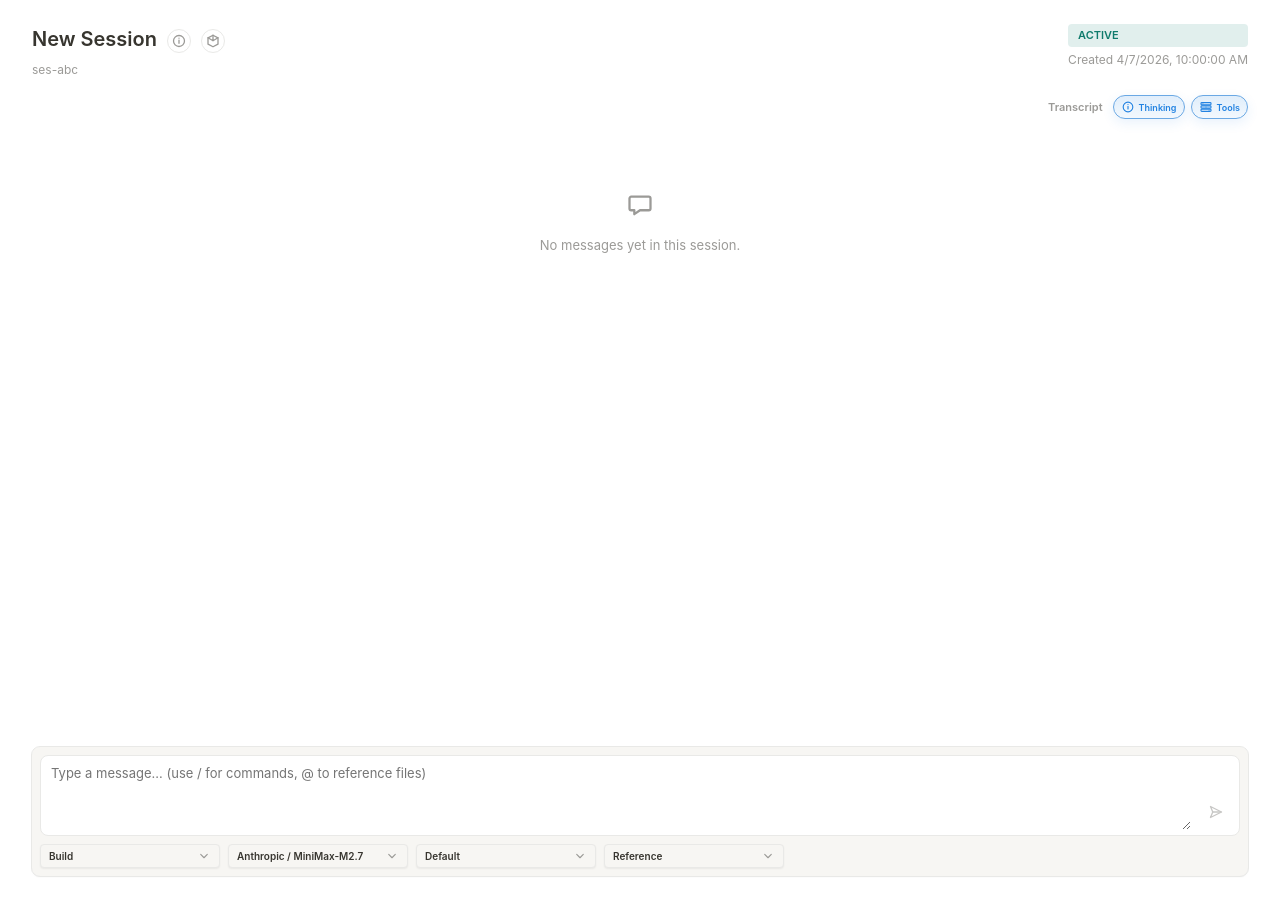
Test case: ChatPage › resets invalid model mode when switching to a model without support
Click the button with test id "composer-model-mode-trigger". click: x=506, y=856
box: [416,844,596,868]
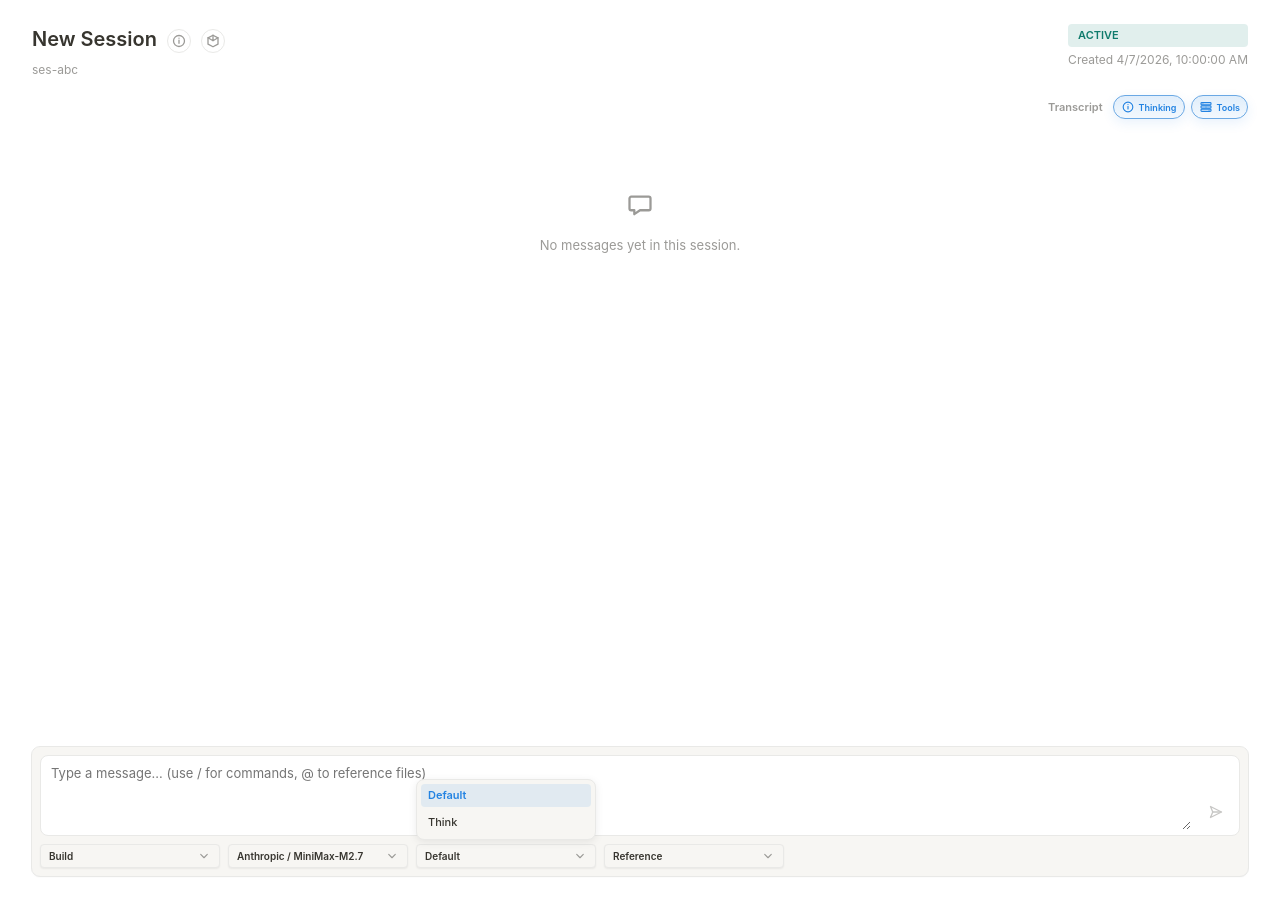
Click the button with test id "composer-model-mode-option-think". click: x=506, y=823
box: [421,811,591,835]
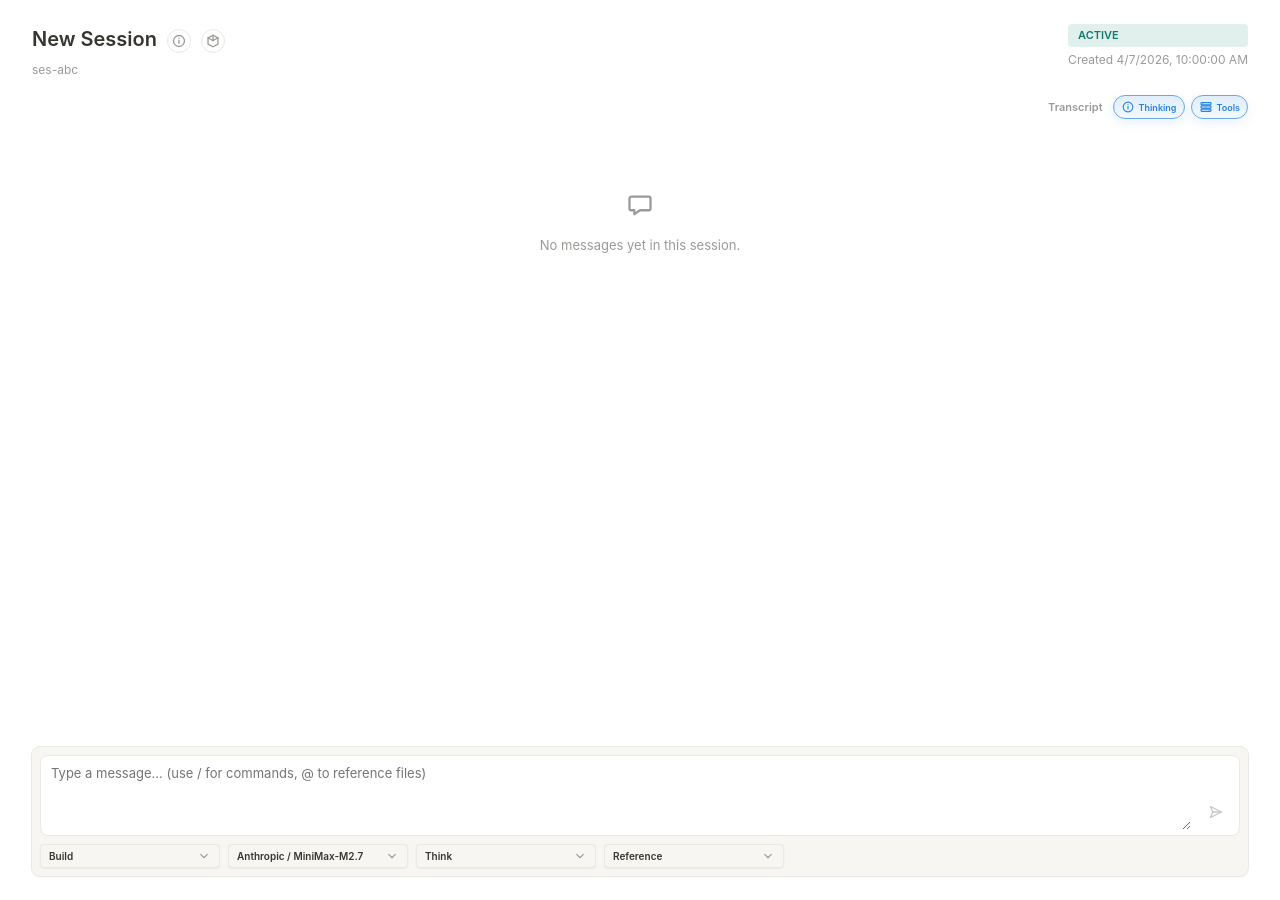
Click the button with test id "composer-provider-model-trigger". click: x=318, y=856
box: [228,844,408,868]
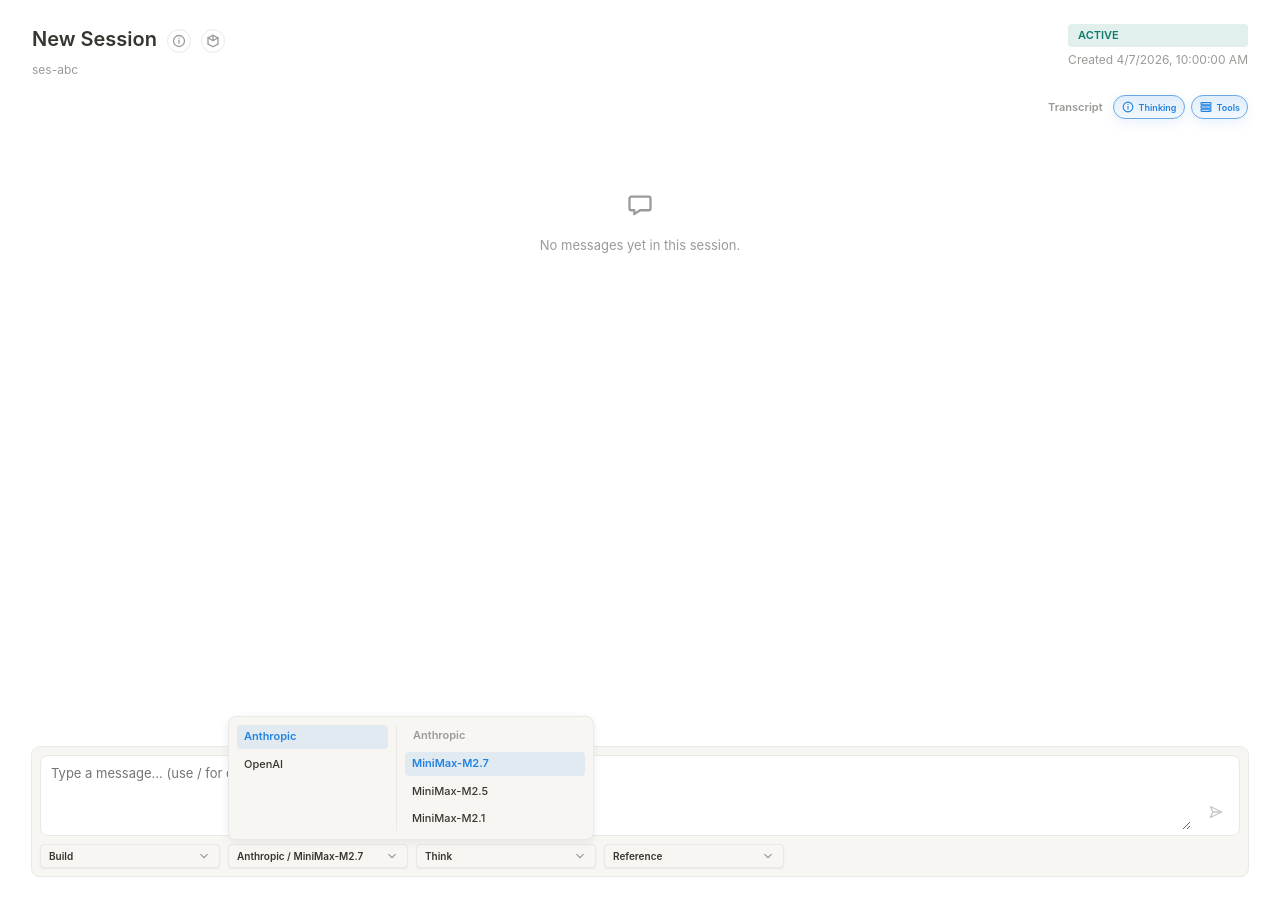
Click the button with test id "composer-provider-option-provider-2". click: x=312, y=765
box: [237,753,388,777]
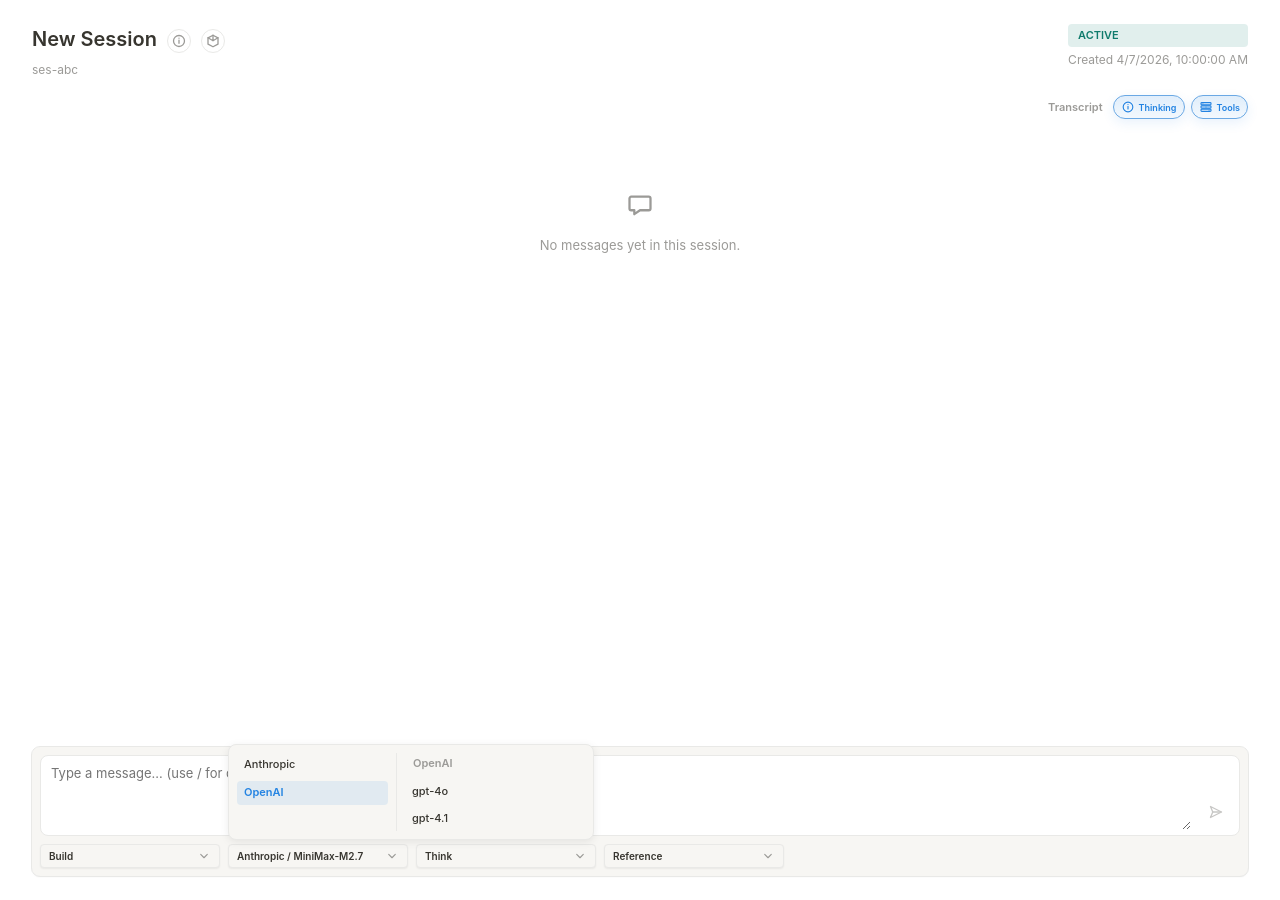
Expected: the button with test id "composer-model-option-provider-2-gpt-4o" is shown
Click the button with test id "composer-model-option-provider-2-gpt-4o". click: x=495, y=791
box: [405,780,585,803]
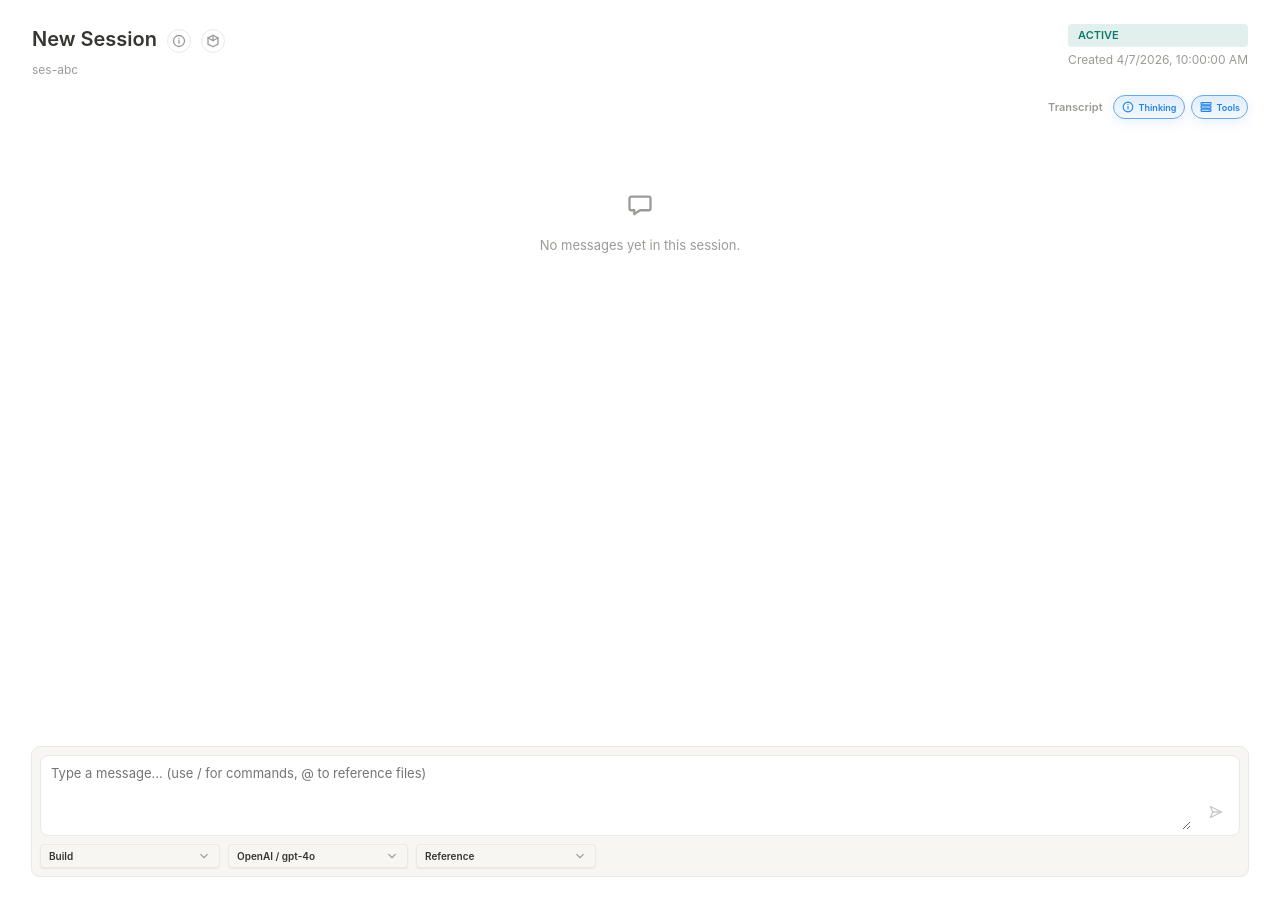
Expected: the button with test id "composer-model-mode-trigger" is gone
